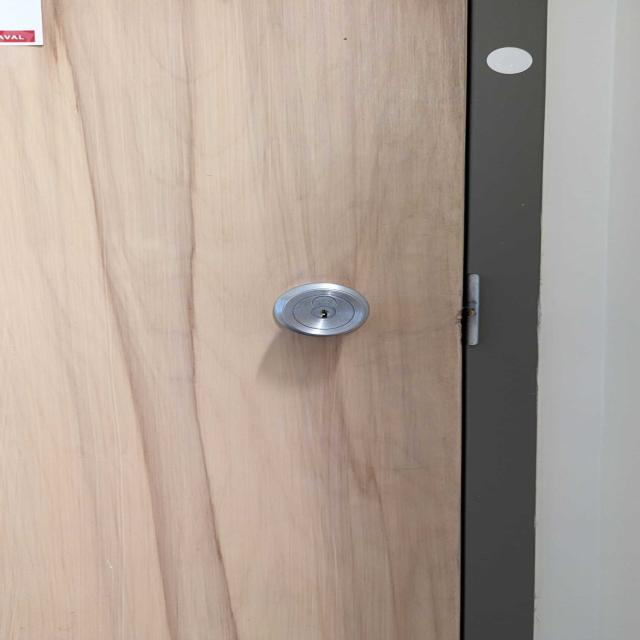door-knob: (273, 284, 369, 336)
